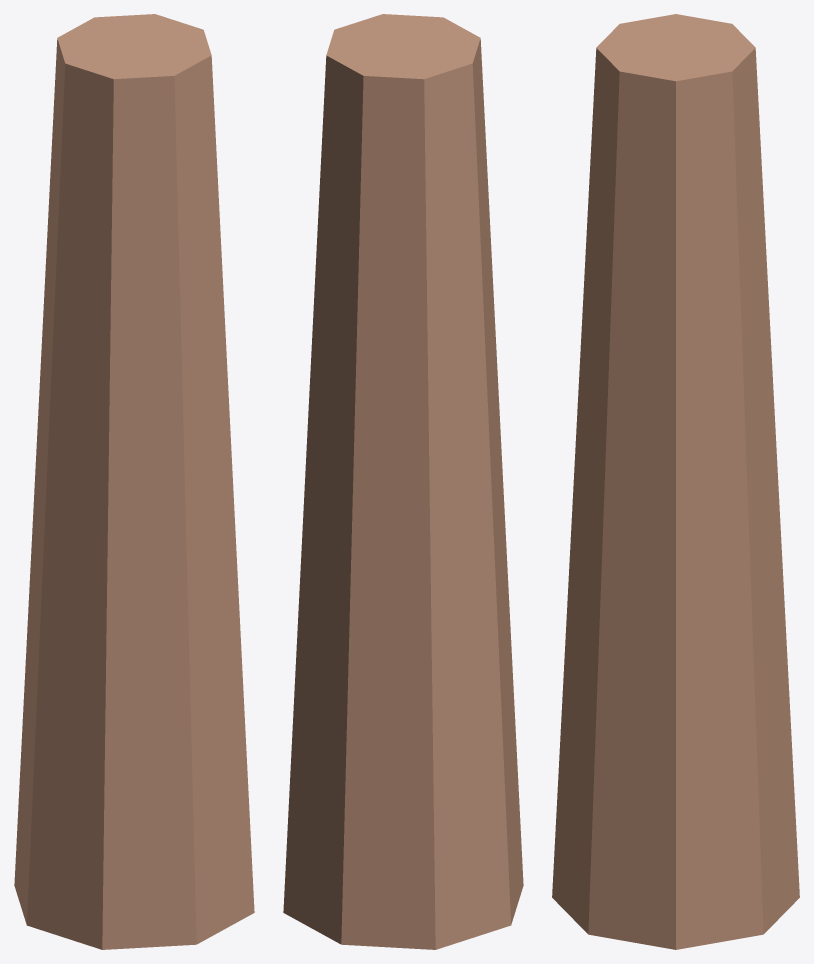
File: wk_buck_heavy_thigh_v01.glb
3 renders of one model, left to right at view 1: azimuth 30°, elevation 25°; view 2: azimuth 150°, elevation 25°; view 3: azimuth 270°, elevation 25°, orthographic.
Visible parts, largest first — view 1: GEO_thigh.002; view 2: GEO_thigh.002; view 3: GEO_thigh.002.
Part boxes in pixels (x1,y1,x2,y2): GEO_thigh.002: [14, 14, 254, 949]; GEO_thigh.002: [283, 14, 523, 949]; GEO_thigh.002: [552, 14, 799, 949].
Bounding box in the file's own units: 0.2643 × 1 × 0.2643.
